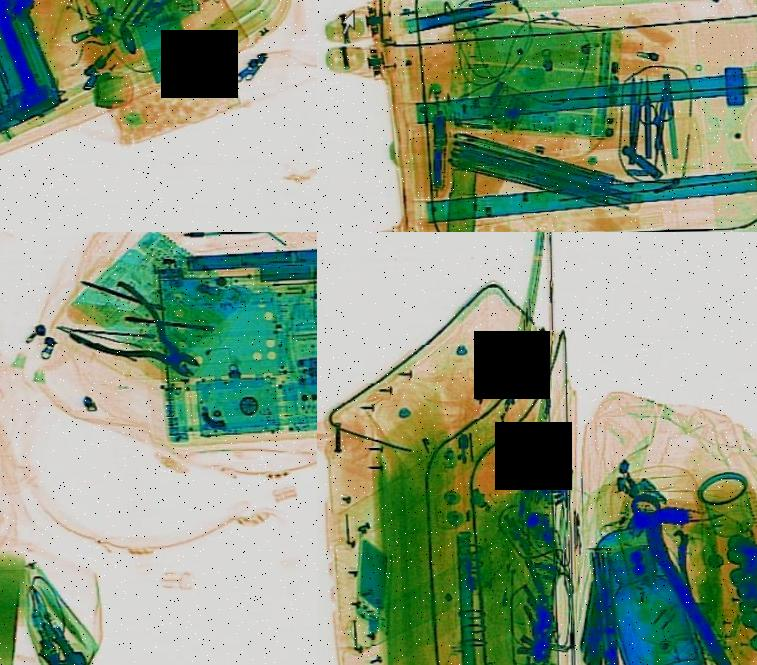Pliers: (54, 276, 230, 397)
Scissors: (636, 96, 687, 174)
Wrench: (621, 484, 757, 665)
